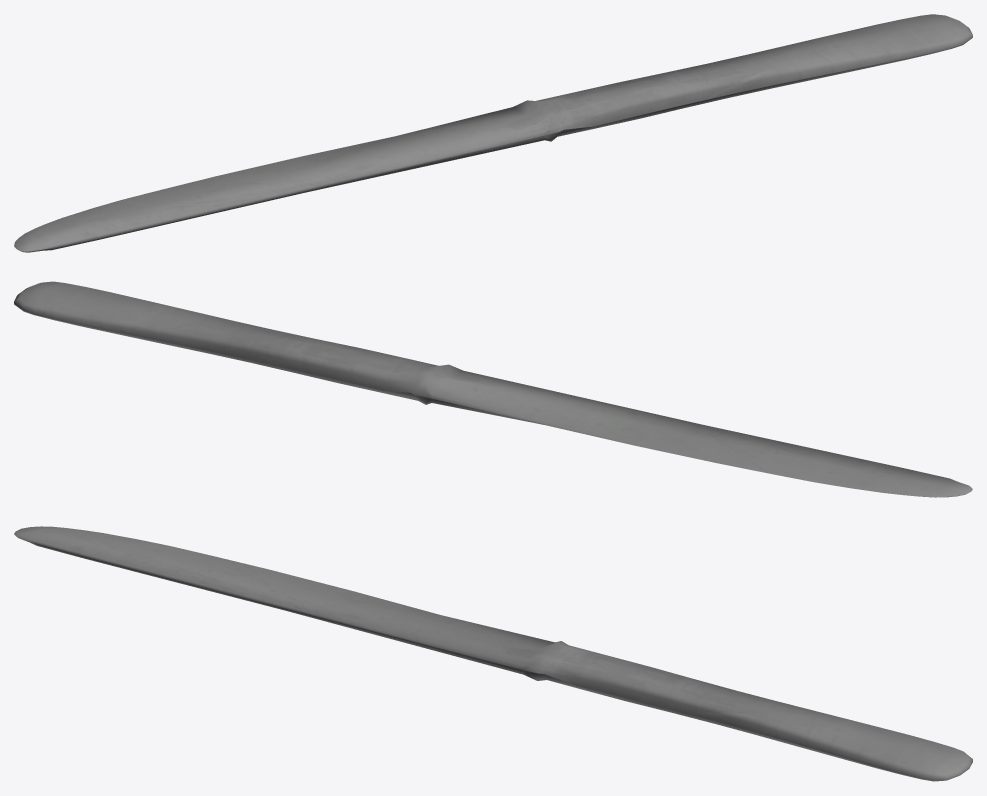
The model's file is knife.gltf.
3 renders of one model, top to bottom at view 1: azimuth 30°, elevation 25°; view 2: azimuth 150°, elevation 25°; view 3: azimuth 330°, elevation 25°, orthographic. The views are drawn at different scales.
Parts seen in each view (by area): view 1: SM_Knife; view 2: SM_Knife; view 3: SM_Knife.
Part boxes in pixels (left/top/right/bottom): SM_Knife: left=14, top=14, right=972, bottom=252; SM_Knife: left=14, top=281, right=972, bottom=497; SM_Knife: left=14, top=526, right=972, bottom=781.
Bounding box in the file's own units: 0.2017 × 0.00618 × 0.014.
Materials: 1 (1 with a texture image).
